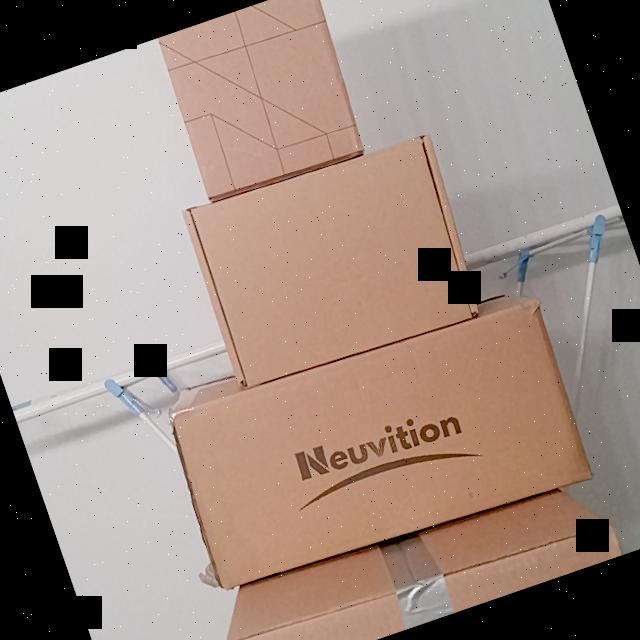box: (166, 294, 593, 594), (181, 129, 481, 391), (224, 518, 623, 640), (156, 0, 367, 198)
